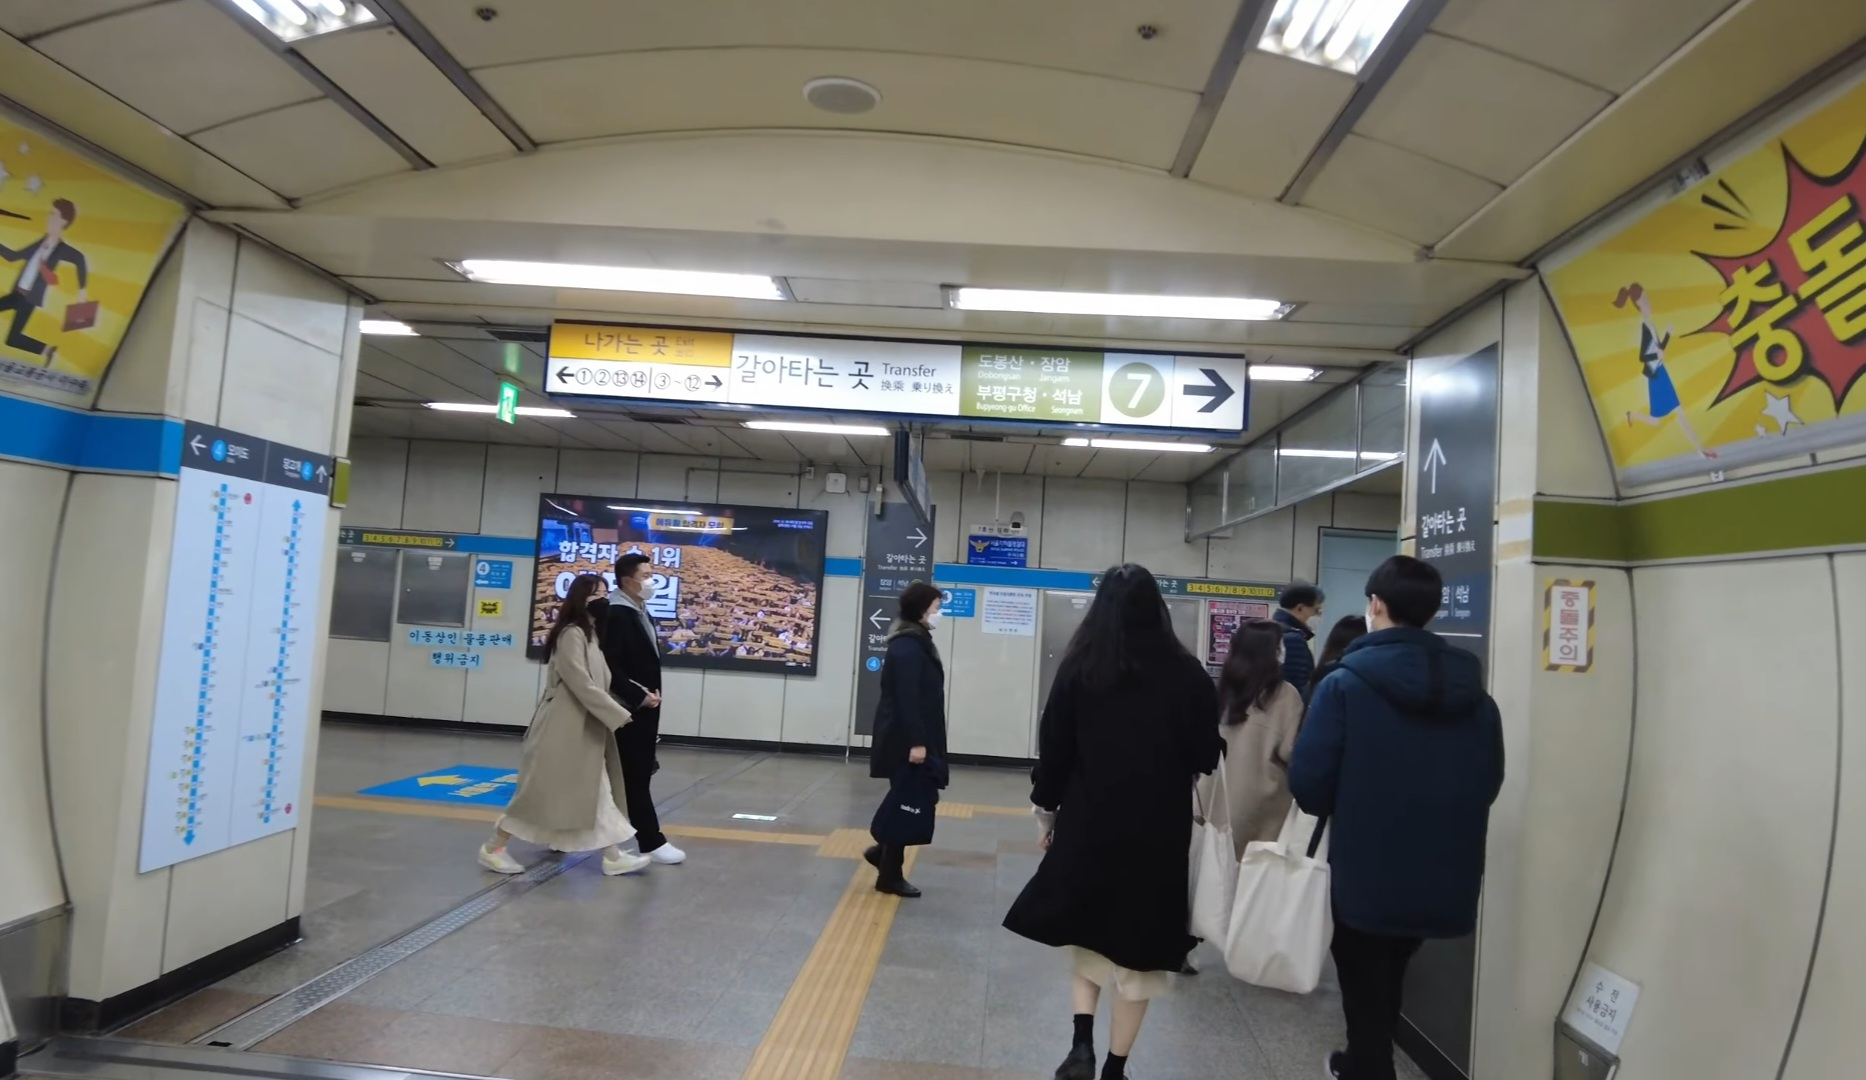signBoard: (540, 318, 1256, 438)
